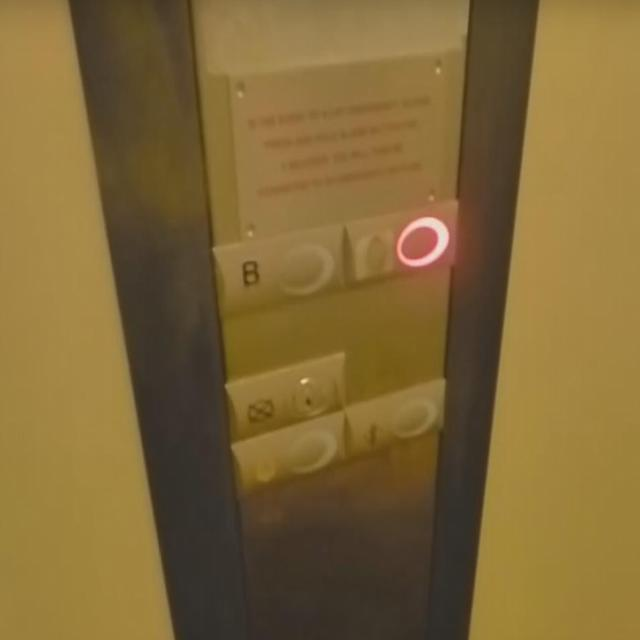B: (211, 220, 344, 321)
alarm: (229, 409, 344, 501)
blur: (342, 197, 458, 286), (344, 376, 446, 458)
light: (223, 352, 345, 438)
